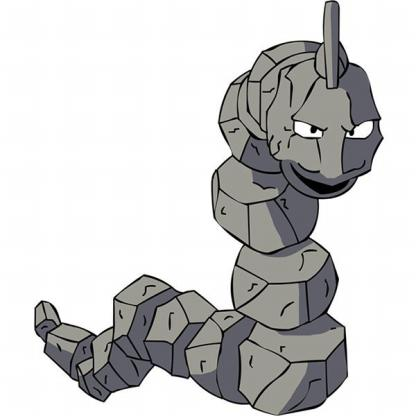Onix: (25, 1, 416, 416)
